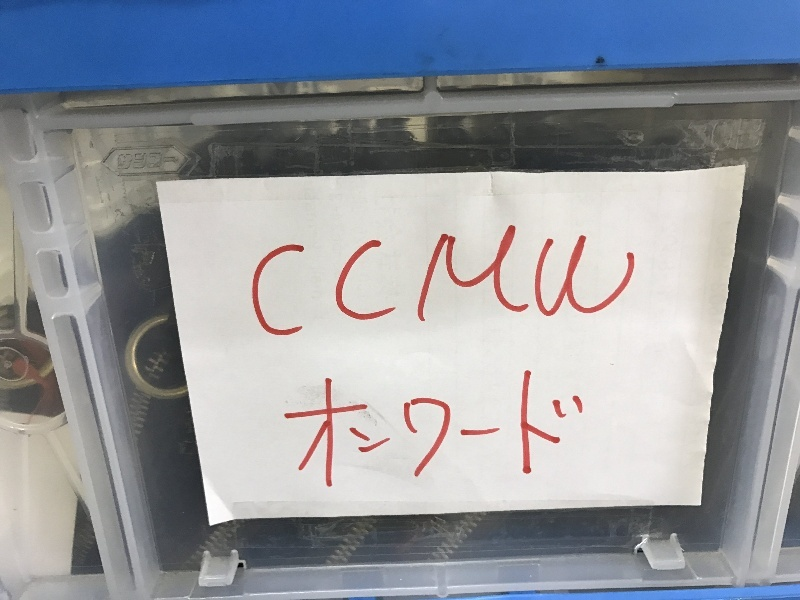text: (257, 219, 272, 342), (273, 219, 288, 342), (289, 219, 304, 342), (305, 219, 320, 342), (321, 219, 336, 342), (337, 219, 352, 342), (353, 219, 368, 342), (369, 219, 384, 342), (385, 219, 400, 342), (401, 219, 416, 342), (417, 219, 432, 342), (433, 219, 448, 342), (449, 219, 464, 342), (465, 219, 480, 342), (481, 219, 496, 342), (497, 219, 512, 342), (513, 219, 528, 342), (529, 219, 544, 342), (545, 219, 560, 342), (561, 219, 576, 342), (577, 219, 592, 342), (593, 219, 608, 342), (609, 219, 624, 342), (289, 370, 304, 492), (305, 370, 320, 492), (321, 370, 336, 492), (337, 370, 352, 492), (353, 370, 368, 492), (369, 370, 384, 492), (385, 370, 400, 492), (401, 370, 416, 492), (417, 370, 432, 492), (433, 370, 448, 492), (449, 370, 464, 492), (465, 370, 480, 492), (481, 370, 496, 492), (497, 370, 512, 492), (513, 370, 528, 492), (529, 370, 544, 492), (545, 370, 560, 492), (561, 370, 576, 492), (577, 370, 592, 492), (625, 219, 639, 342), (279, 370, 288, 492), (593, 370, 599, 492), (161, 152, 177, 170), (129, 152, 144, 170), (145, 152, 160, 170), (117, 152, 128, 170)
